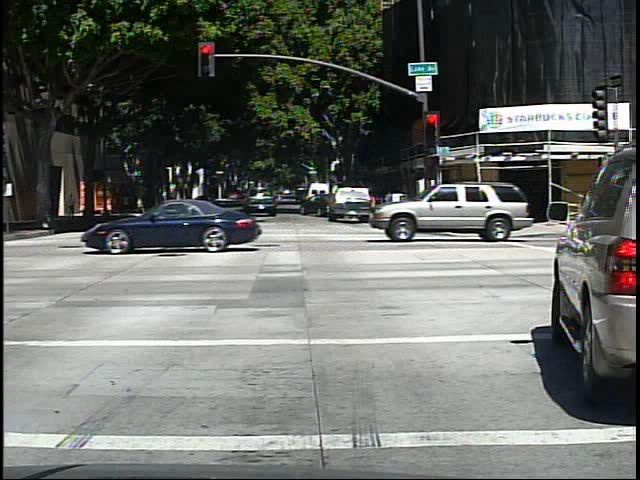person: (65, 190, 80, 221)
